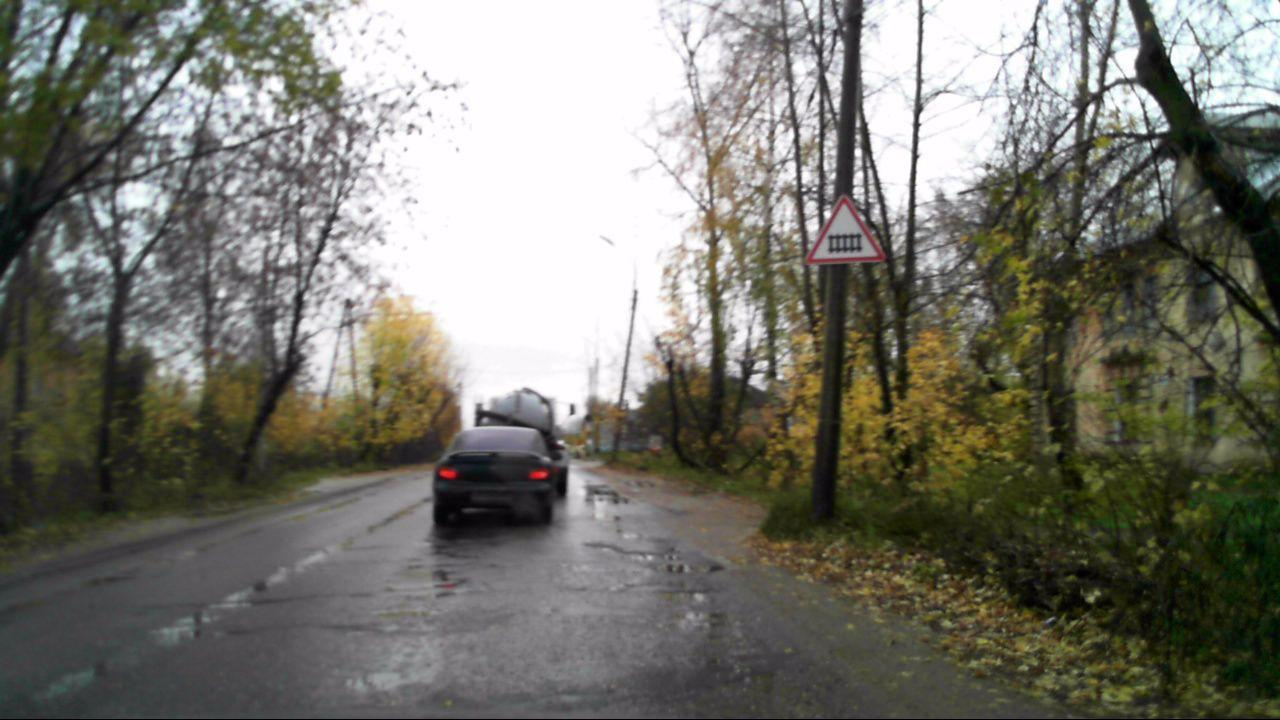1_1: (804, 195, 886, 265)
